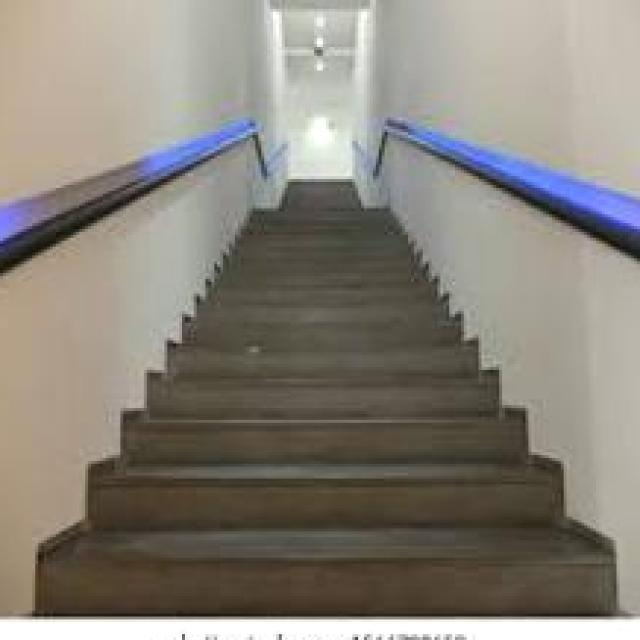upstair: (66, 333, 588, 588)
